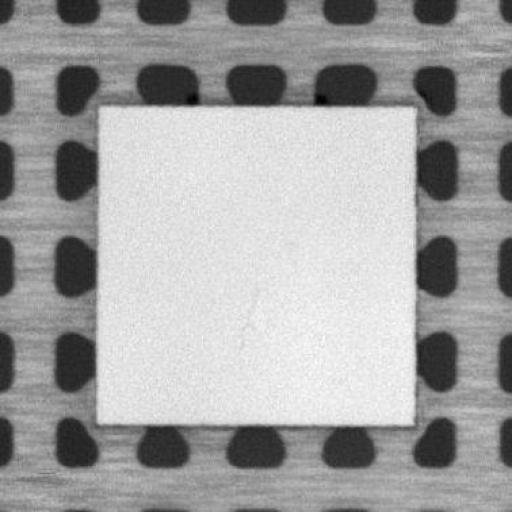DIE_CRACK: (232, 280, 258, 354)
